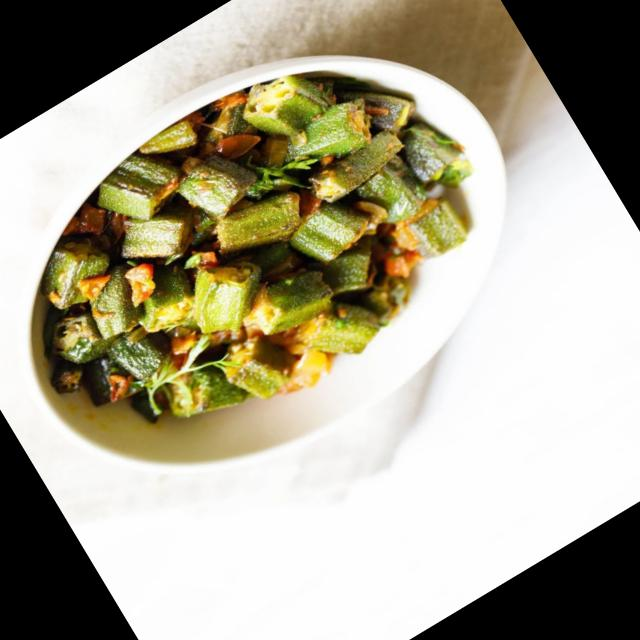BhindiMasala: (0, 1, 529, 500)
